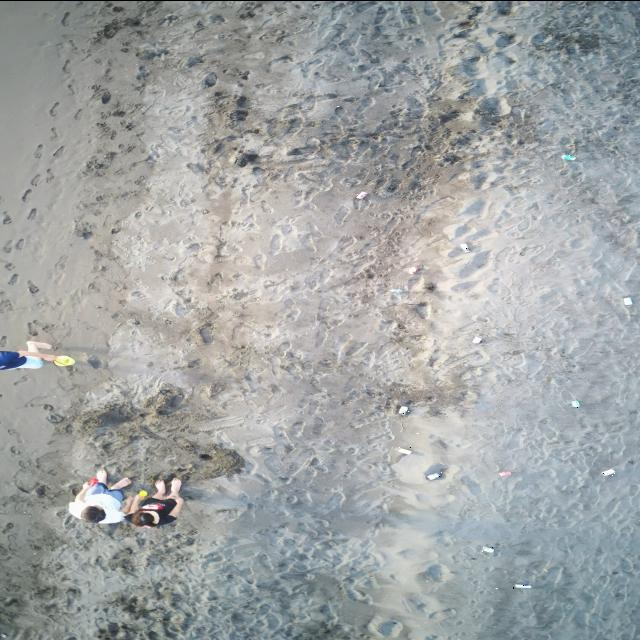Garbage: (52, 355, 74, 366), (426, 471, 442, 480), (397, 404, 408, 415), (600, 467, 615, 475), (390, 287, 407, 293), (396, 447, 412, 453), (460, 243, 470, 252), (356, 191, 367, 199), (406, 267, 420, 273), (497, 470, 511, 476), (88, 476, 98, 484), (512, 583, 531, 587), (563, 154, 575, 160), (472, 335, 481, 343), (138, 488, 147, 495), (483, 546, 493, 552), (624, 296, 631, 304), (572, 400, 579, 407)
